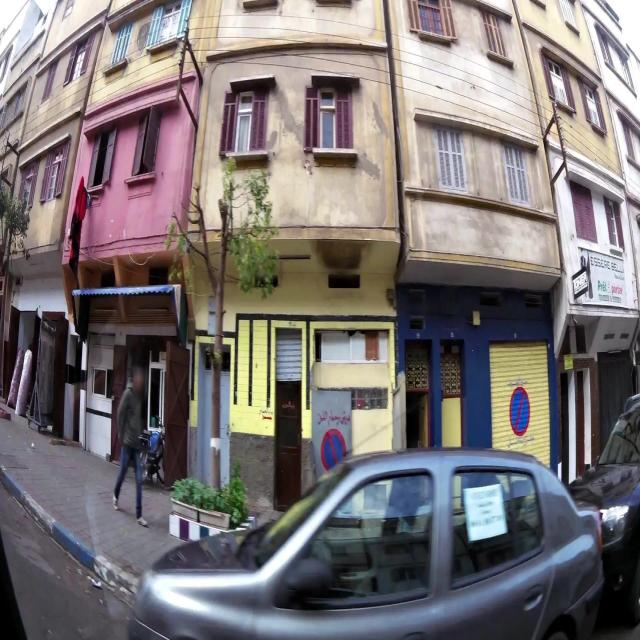forb_stopping: (320, 428, 347, 472), (509, 385, 531, 438)
